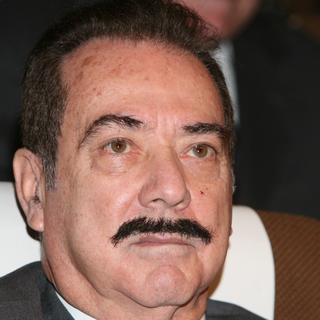eye: (180, 140, 222, 164), (97, 134, 139, 157)
